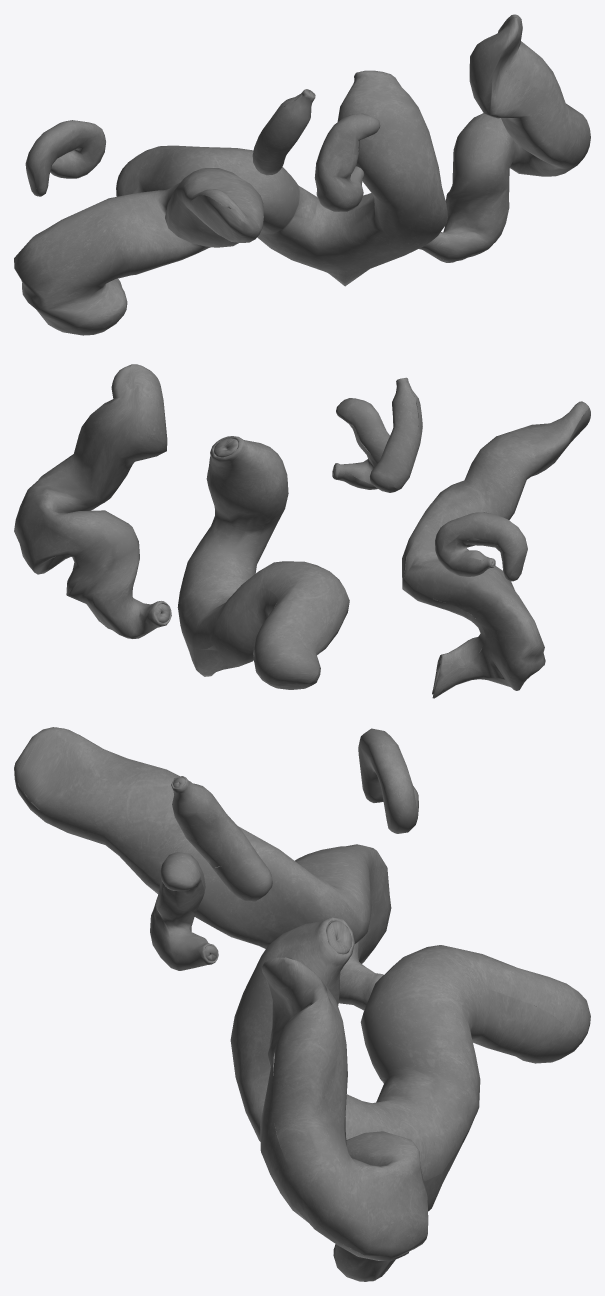
File: kujira.glb
3 renders of one model, top to bottom at view 1: azimuth 30°, elevation 25°; view 2: azimuth 150°, elevation 25°; view 3: azimuth 270°, elevation 25°, orthographic. The views are drawn at different scales.
Parts seen in each view (by area): view 1: BezierCurve.003_BezierCurve.008; view 2: BezierCurve.003_BezierCurve.008; view 3: BezierCurve.003_BezierCurve.008.
Boxes of the visible parts, <box> form: BezierCurve.003_BezierCurve.008: <box>14,14,590,335</box>; BezierCurve.003_BezierCurve.008: <box>14,364,590,698</box>; BezierCurve.003_BezierCurve.008: <box>14,727,590,1281</box>.
Bounding box in the file's own units: 5.85 × 2.85 × 4.
2 materials, 2 textured.
